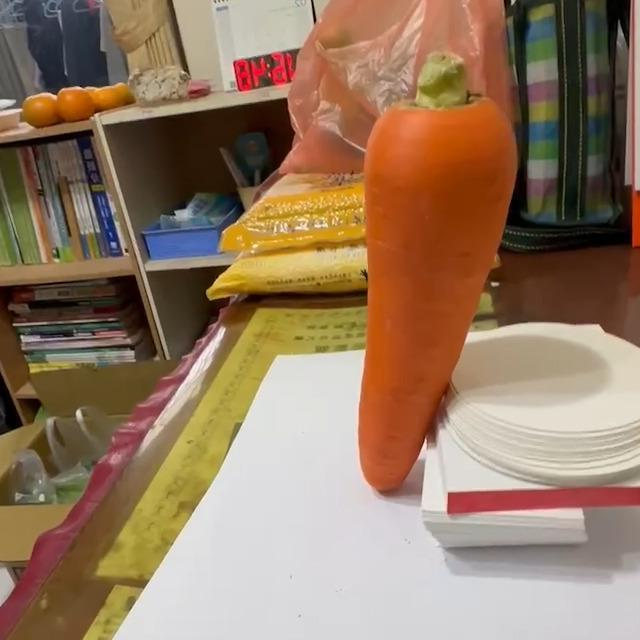carrot: (353, 55, 520, 498)
